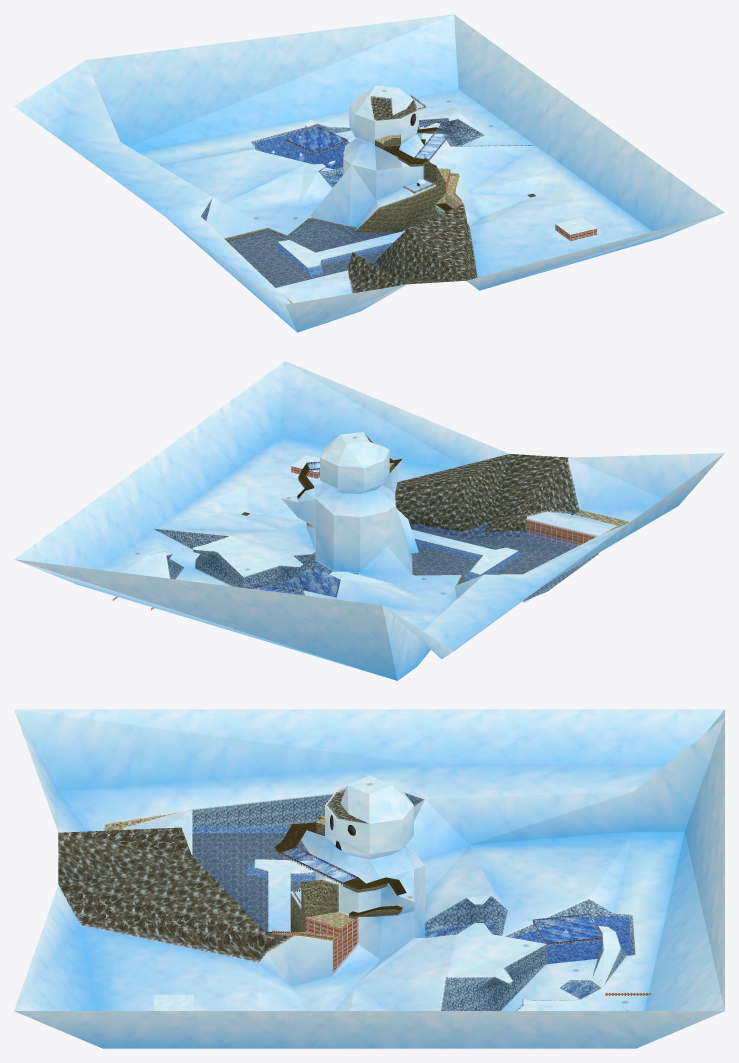
Rendered from snow_land_all.glb.
3 renders of one model, top to bottom at view 1: azimuth 30°, elevation 25°; view 2: azimuth 150°, elevation 25°; view 3: azimuth 270°, elevation 25°, orthographic. The views are drawn at different scales.
Visible parts, largest first — view 1: snow_land_all; view 2: snow_land_all; view 3: snow_land_all.
Boxes of the visible parts, box(x1,y1,x2,y2) form: snow_land_all: box(14, 14, 724, 332); snow_land_all: box(14, 361, 724, 680); snow_land_all: box(14, 709, 724, 1048).
Size of the model in its own units: 15 by 4.52 by 16.
23 materials, 23 textured.
